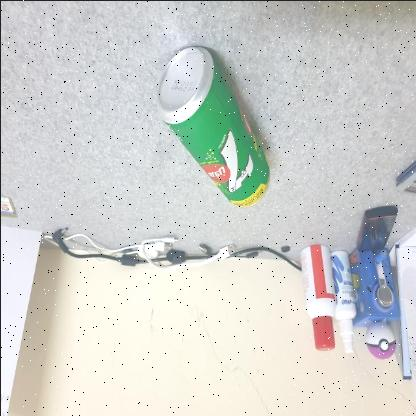Can: (137, 34, 283, 222)
